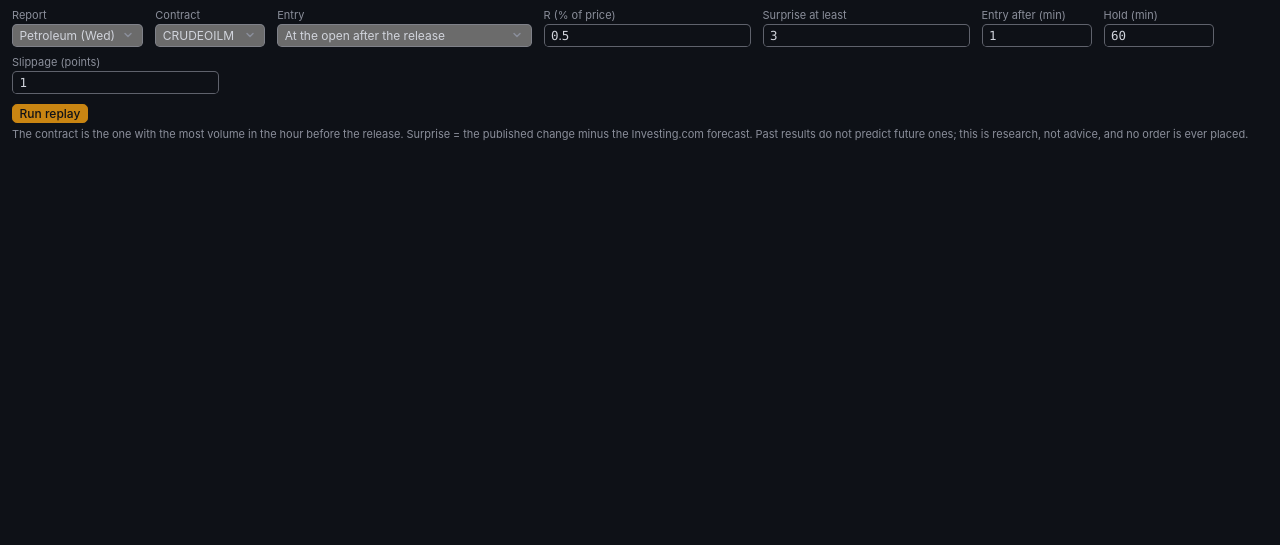
it: the AMD entries are asked for by name and the answer says which entry it used
Select "AMD: against the sweep, on the retrace" in the dropdown labelled "Entry" at (404, 35), box [277,24,532,47]
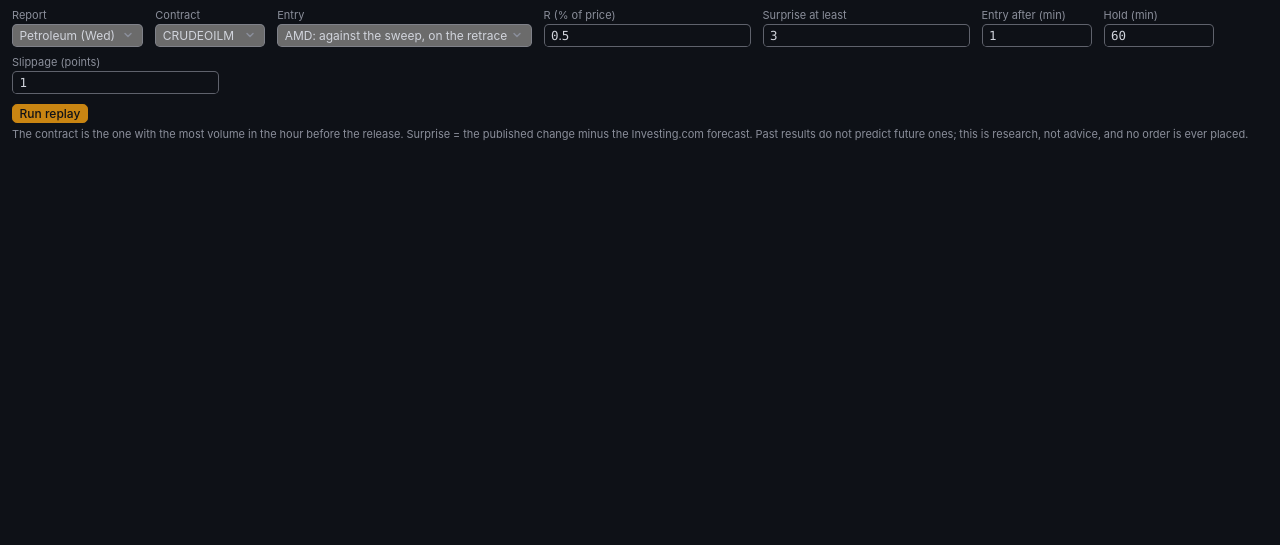
Click the button "Run replay" at (50, 113), box [12,104,88,123]
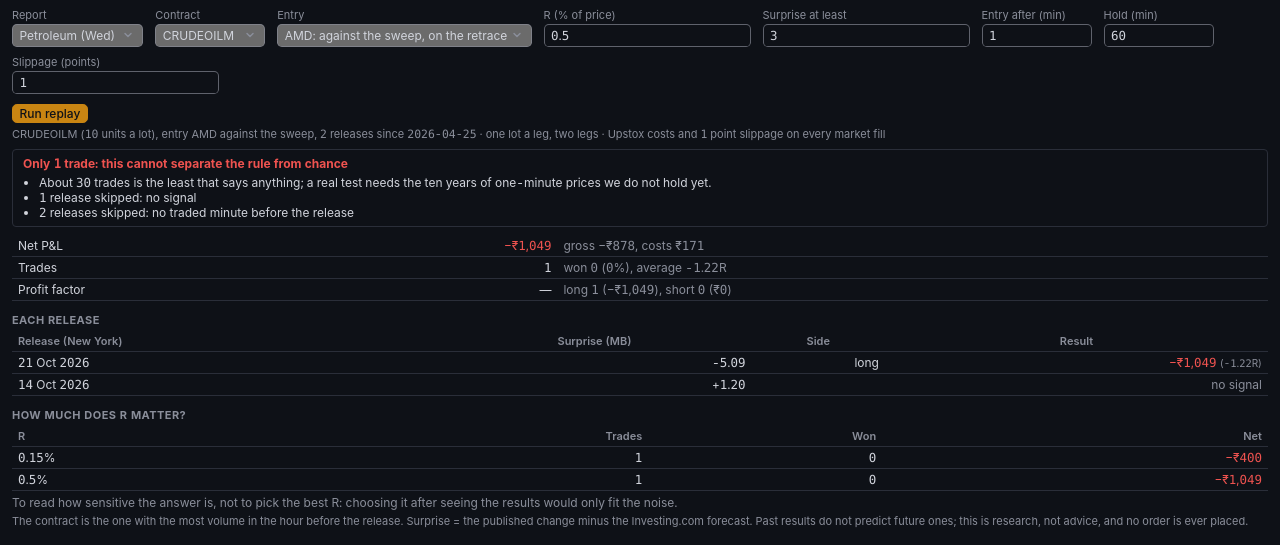
Now the text "entry AMD against the sweep" is shown, box [12,127,885,141]
